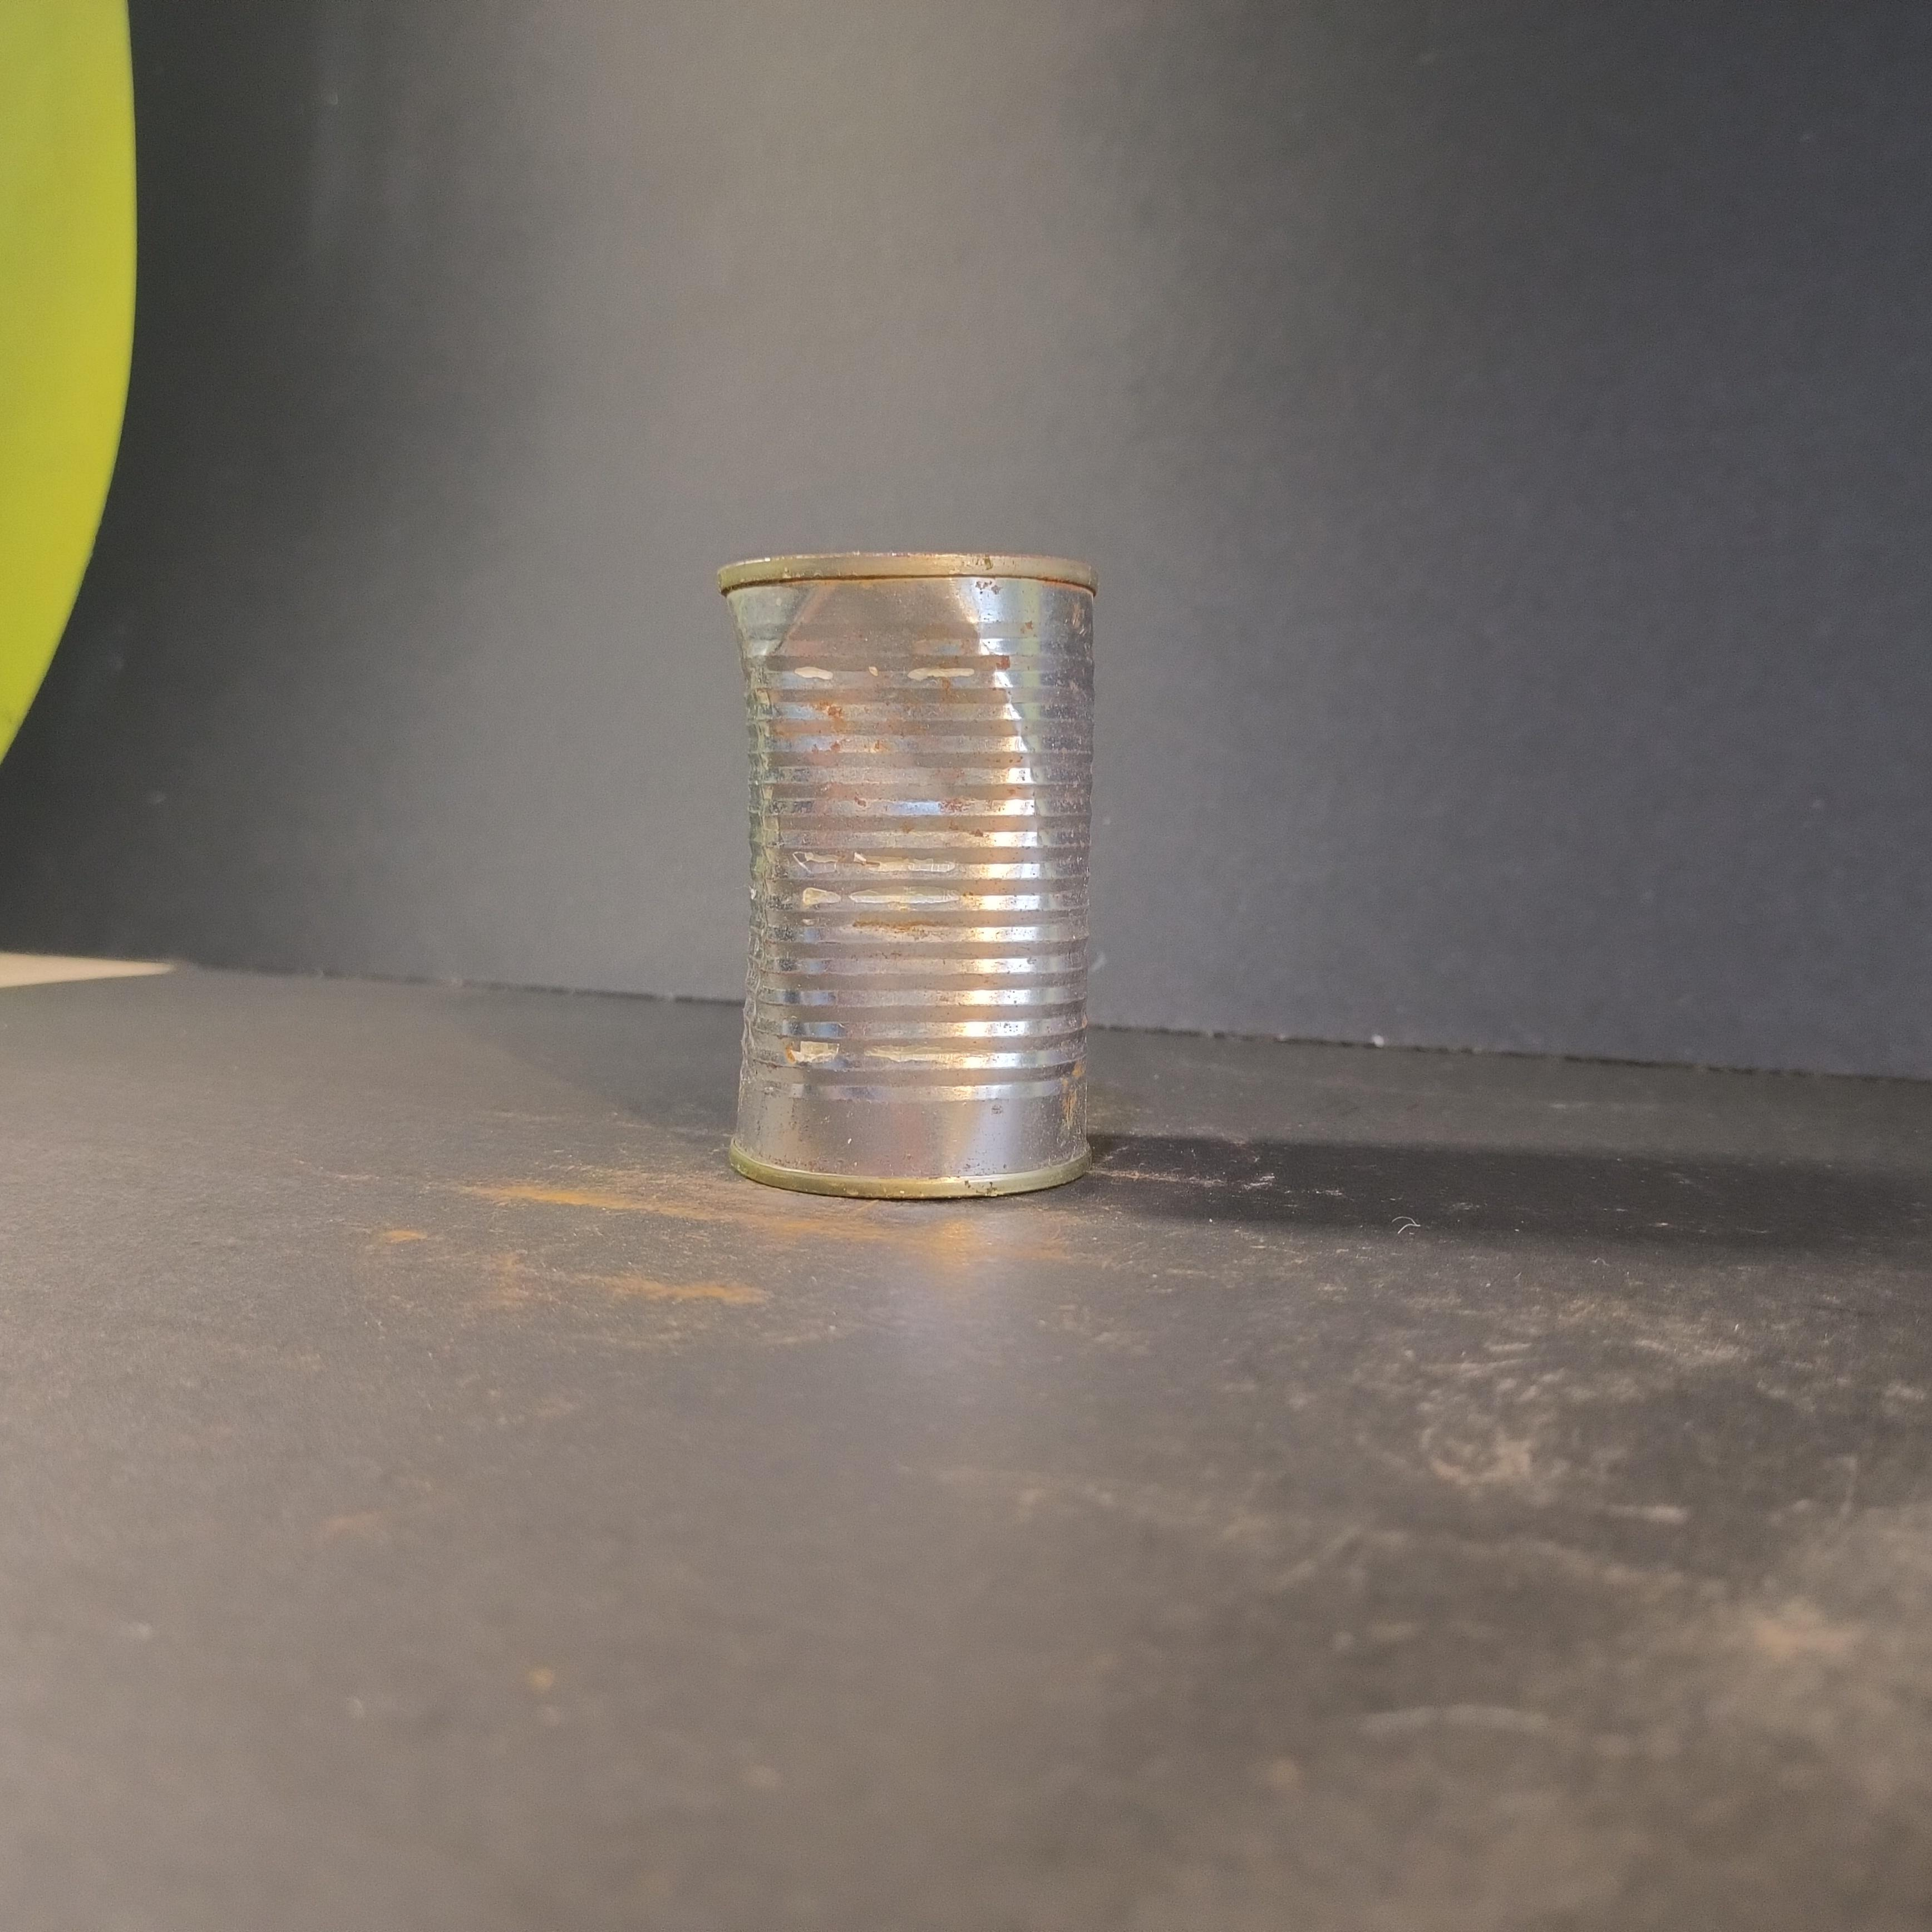Dented: (701, 543, 1123, 1200)
